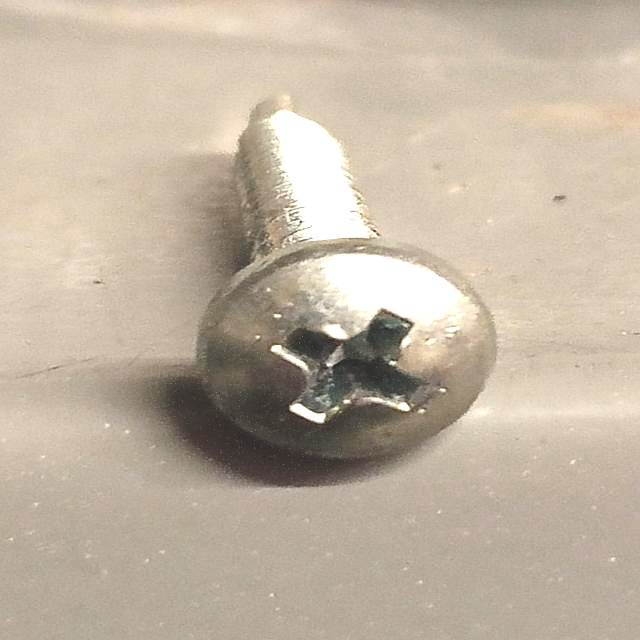phillips: (196, 237, 498, 464)
